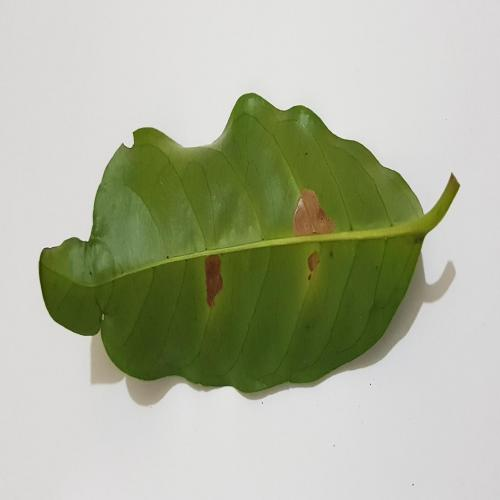leaf: (293, 189, 335, 236)
